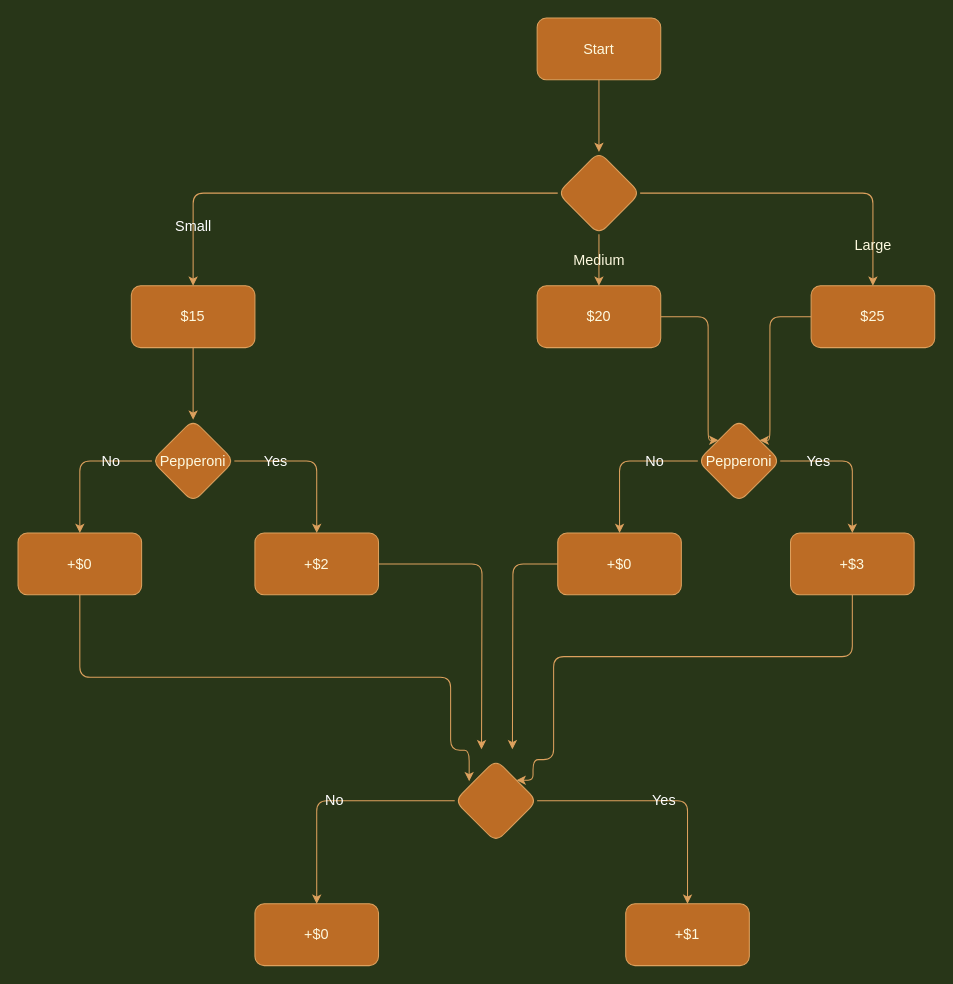
Some shapes in this 953 by 984 pixel diagram are drawn without their labels. The centre of each missing label's shape, as x and y in pixels:
Extra Cheese: the point at 495,800
Size: the point at 598,192
